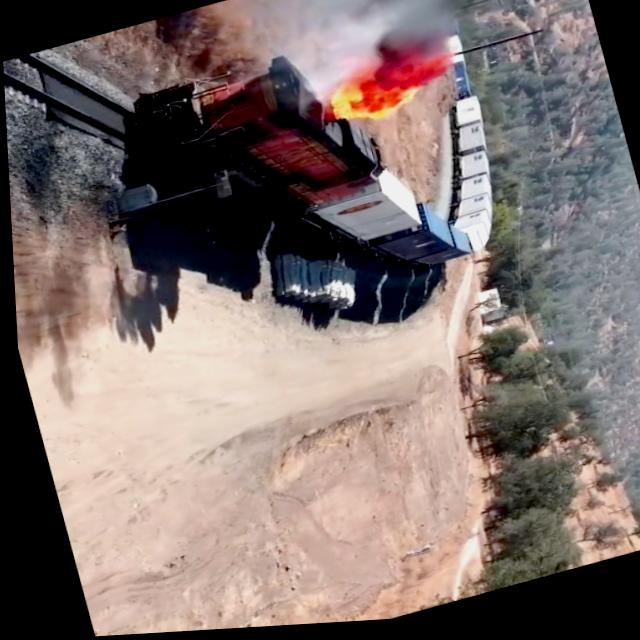fire: (314, 41, 461, 136)
smoke: (319, 0, 493, 17)
